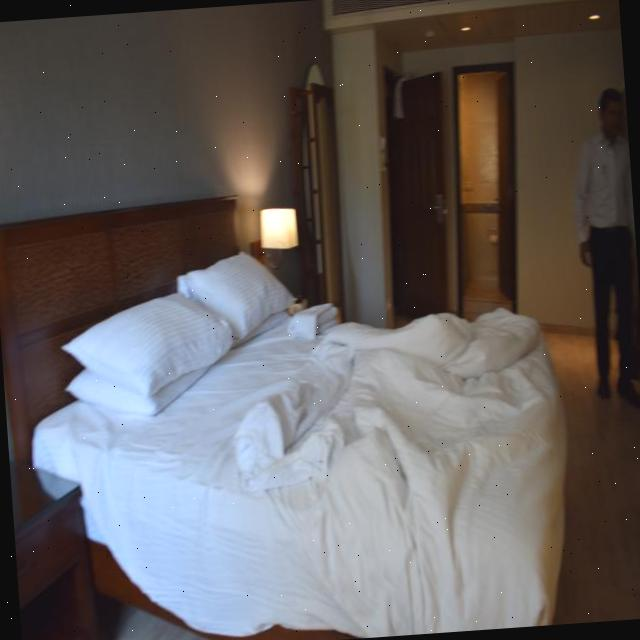Disorganized_pillow: (60, 245, 293, 419)
lamp: (247, 205, 306, 264)
mess: (228, 329, 517, 506)
messy_bed: (0, 196, 537, 627)
